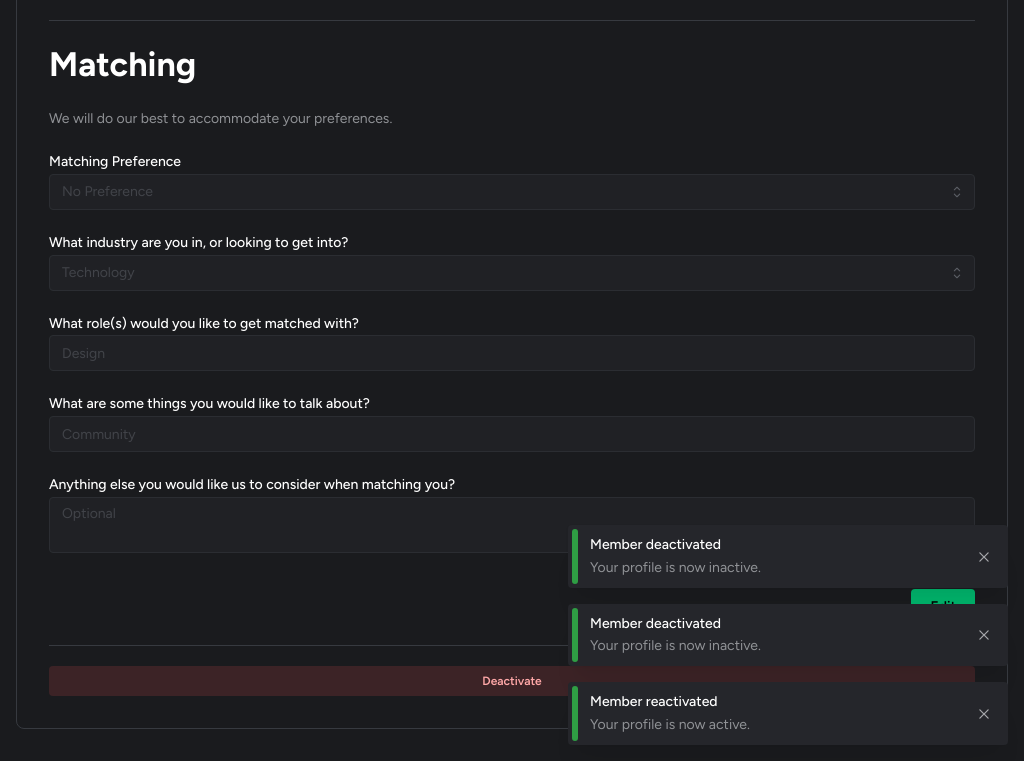
a failed update shows an error and leaves the profile active
(page scrolled)
Click the button "Deactivate" at (512, 681), box [49,666,975,696]
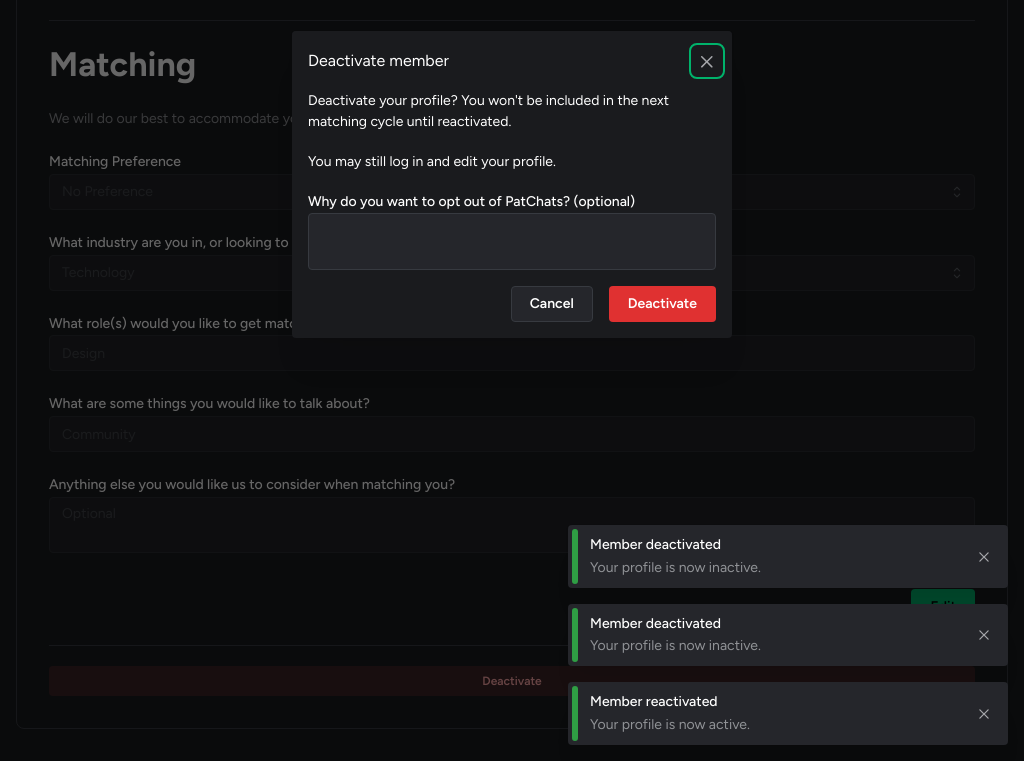
Click the button "Deactivate" at (662, 304), box [609,286,716,322]
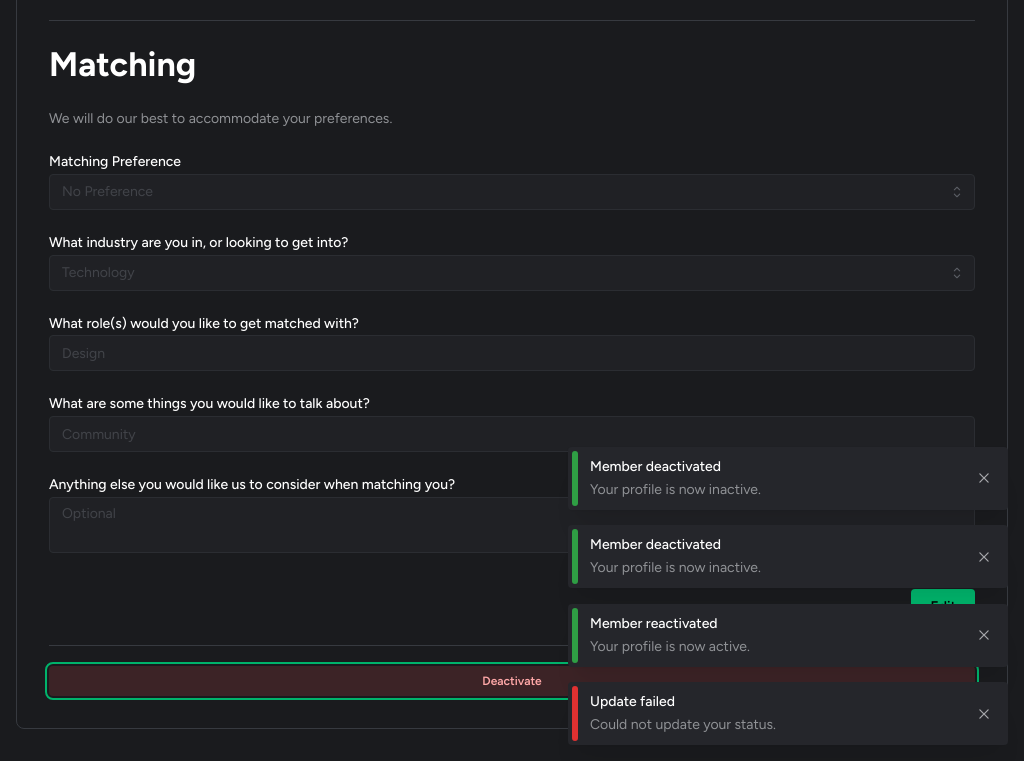
Check: the text "Update failed" is shown, box [590,693,675,710]
